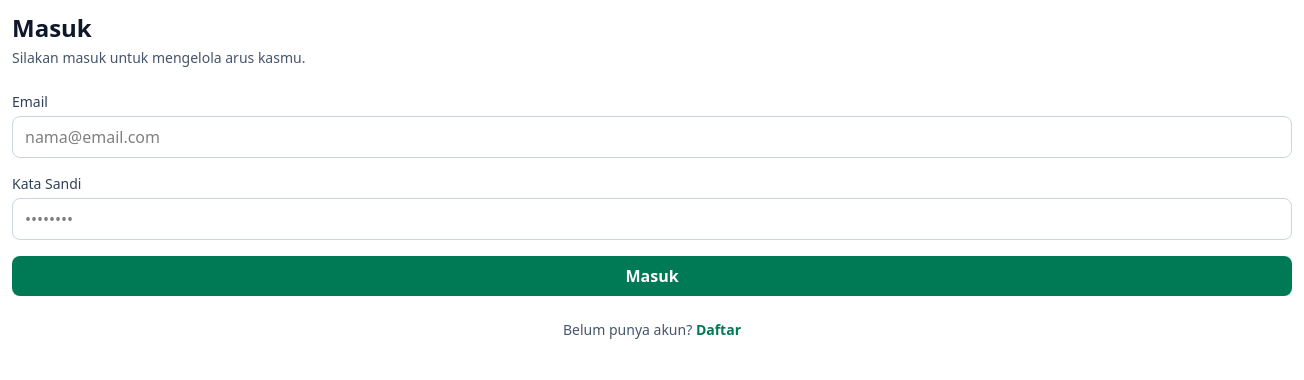
LoginPage › validasi: format email
Type "salah" into the field with id "login-email-input".
click(652, 137); type("salah")  # box [12, 116, 1292, 158]
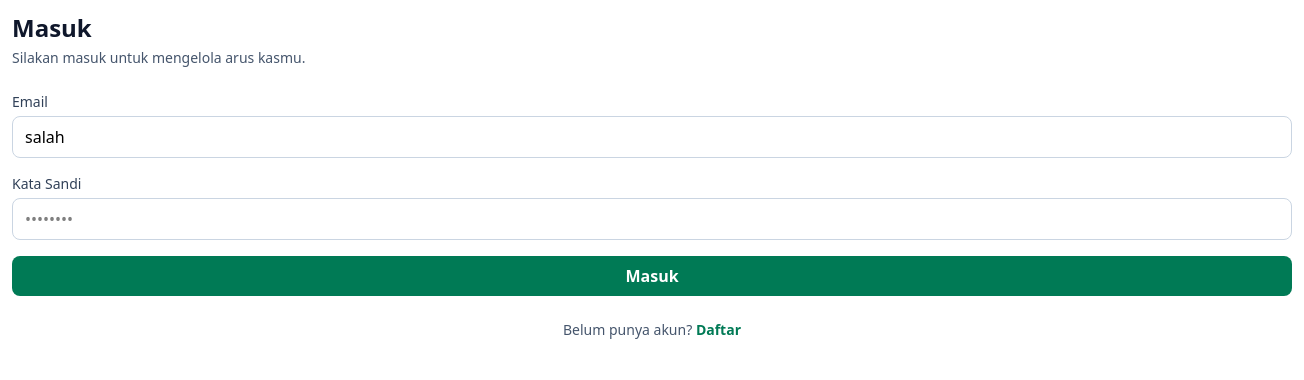
Type "x" into the password field with id "login-password-input".
click(652, 219); type("x")  # box [12, 198, 1292, 240]
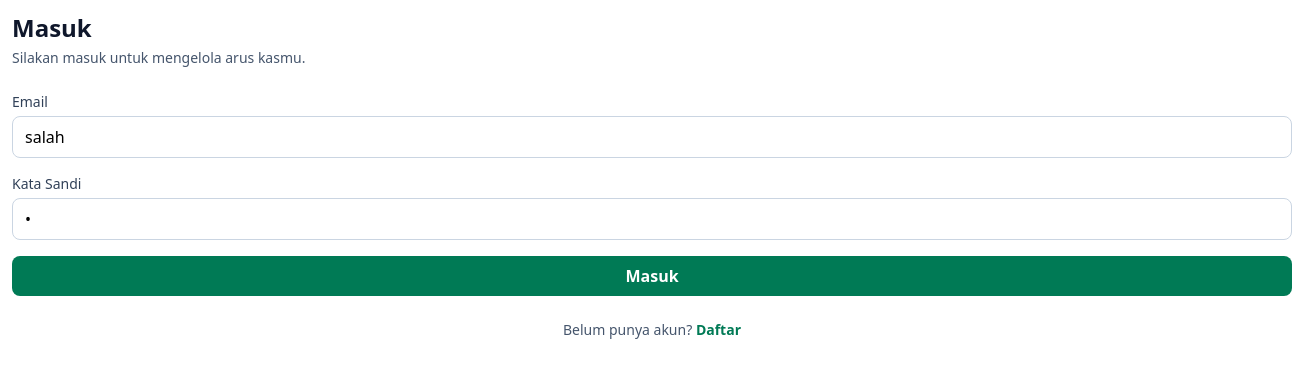
Submit the form, box [12, 92, 1292, 296]
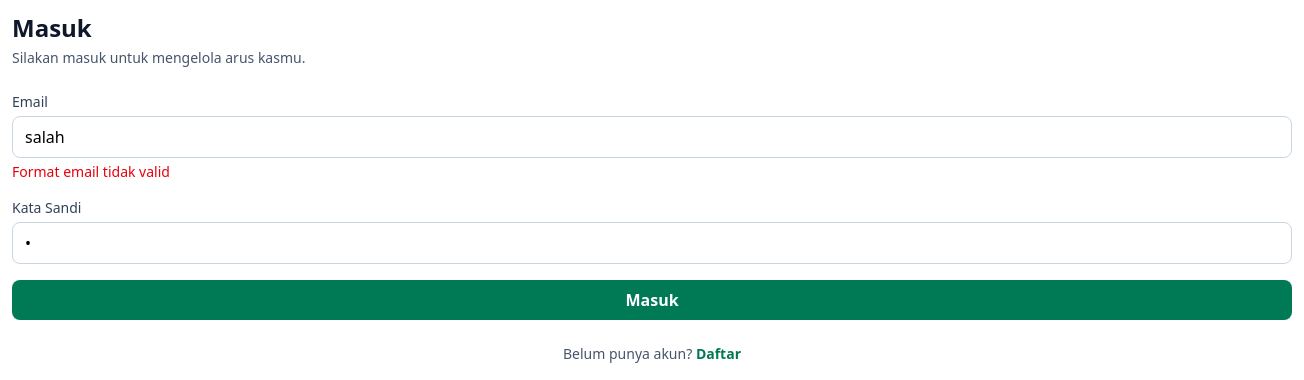
Check: the text "Format email tidak valid" is shown, box [12, 162, 170, 181]
